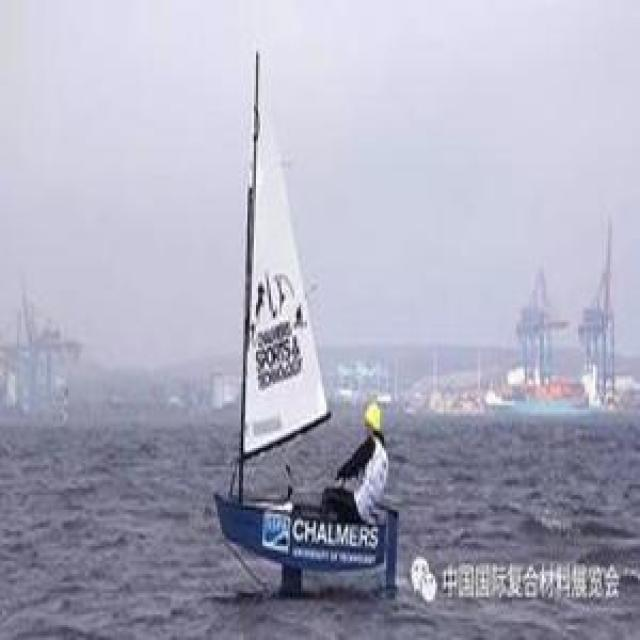sailboat: (211, 49, 400, 573)
